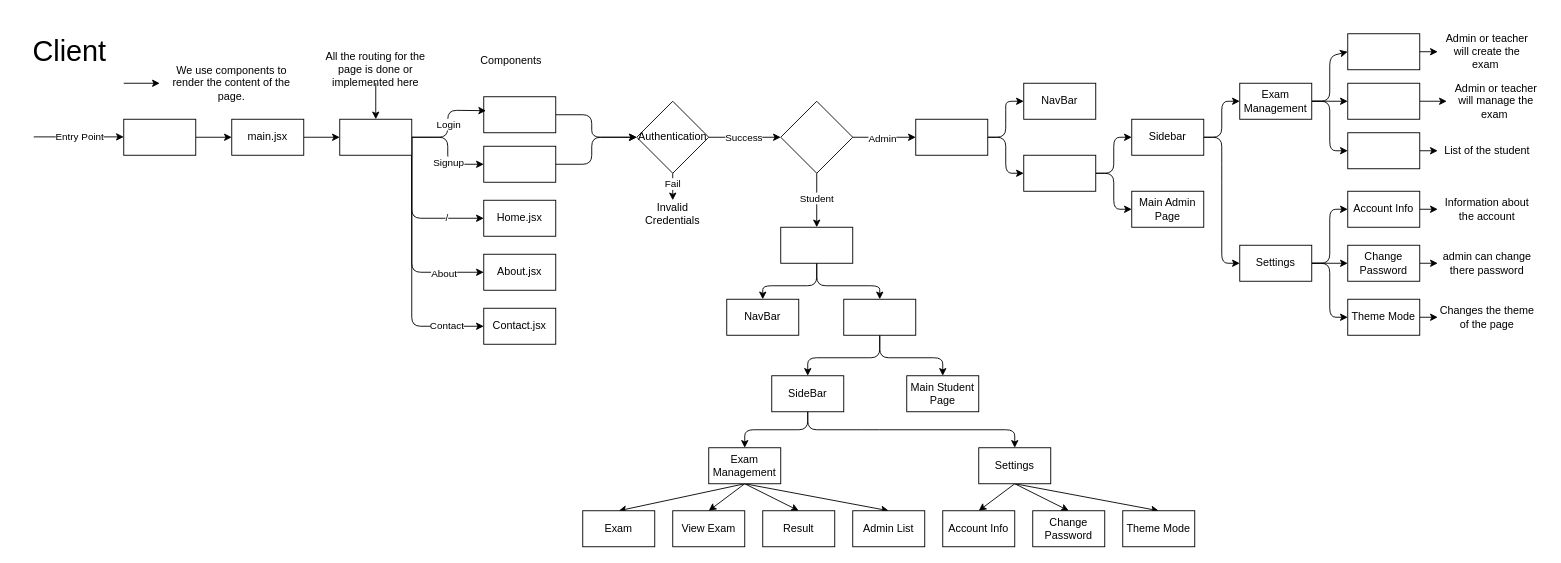
Image size: 1561x563. Some labels were removed from this diagram. Each missing label, with the centre of its shape:
Admin Dashboard: point (951, 136)
Admin Page: point (1059, 172)
App.jsx: point (375, 136)
Exam Creation: point (1383, 51)
Index.html: point (159, 136)
Login.jsx: point (519, 114)
Manage Exam: point (1383, 100)
Role: point (816, 136)
Signup.jsx: point (519, 163)
Student Dashboard: point (816, 244)
Student List: point (1383, 150)
Student Page: point (879, 316)
